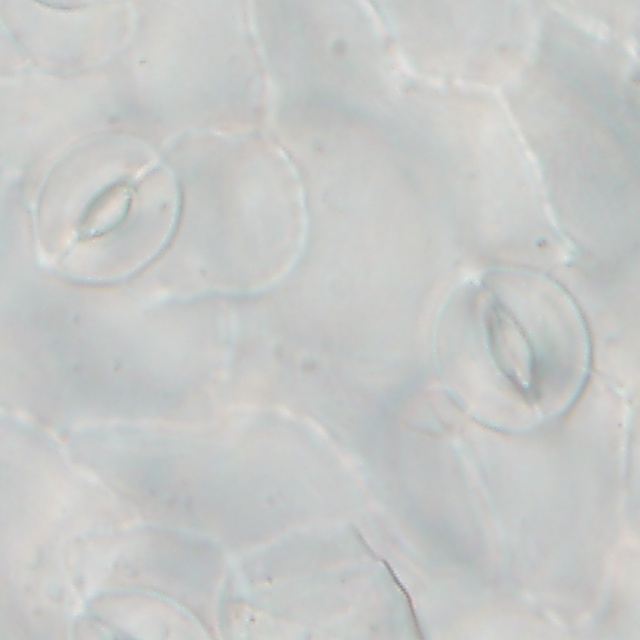center: (484, 303, 535, 394), (76, 180, 134, 240), (275, 574, 366, 592), (109, 611, 173, 618)
stomata-huw1: (433, 267, 592, 433), (219, 527, 422, 639), (32, 134, 181, 284), (70, 590, 212, 639)
